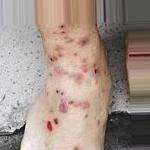Fleas: (51, 44, 65, 61), (72, 71, 86, 85), (43, 119, 55, 133), (92, 64, 100, 84), (68, 101, 89, 108), (78, 36, 90, 47), (58, 99, 67, 112), (57, 24, 66, 34), (81, 59, 87, 73), (54, 67, 62, 76), (48, 55, 56, 63), (65, 37, 74, 43), (56, 90, 63, 95)
